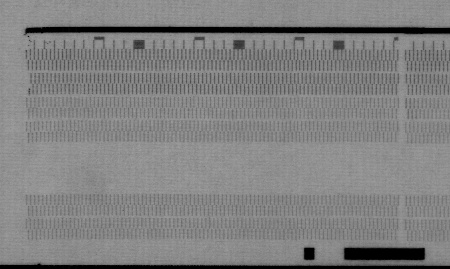Broken hole: (24, 140, 450, 196)
Oblique printing: (25, 83, 36, 96)
